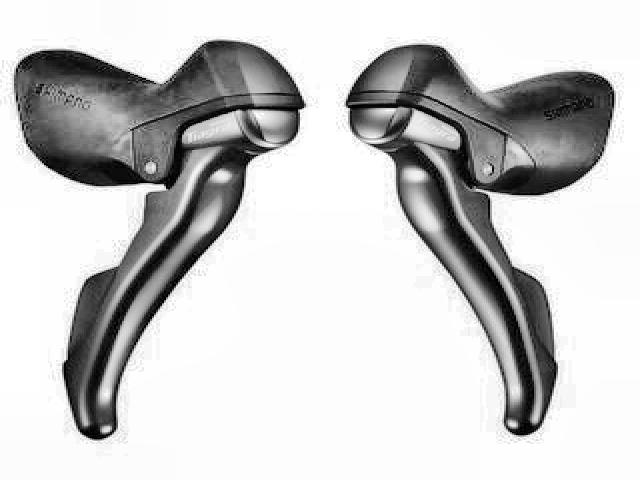sti_shifter: (12, 38, 310, 440), (340, 42, 620, 434)
